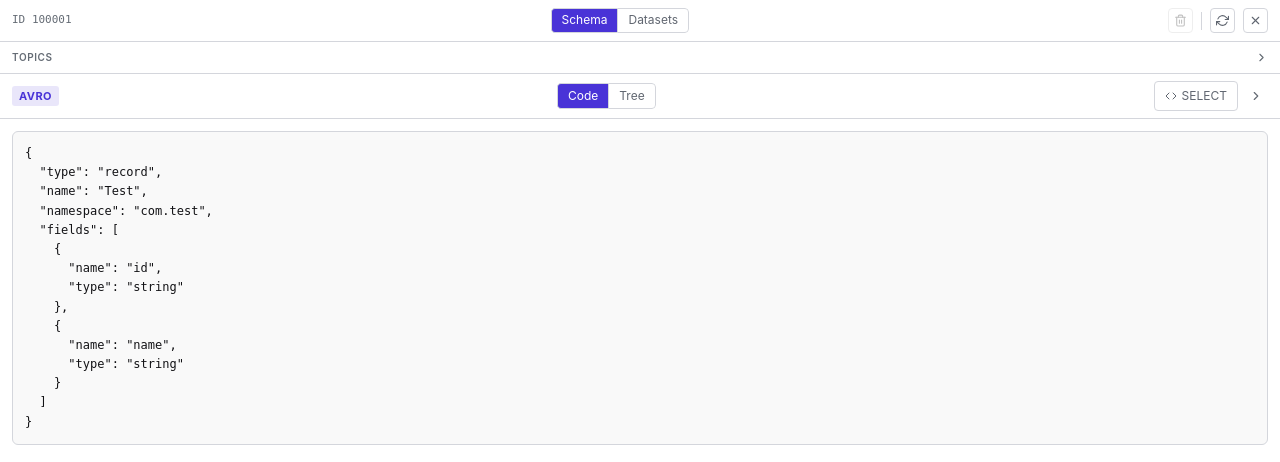
[@schema-detail-coverage] datasets tab › clicking "Datasets" button switches to datasets view
What coordinates should you click on to do the following:
click the button "Datasets"
I would click on:
 (653, 20)
Its box is 618,8 -> 689,33.
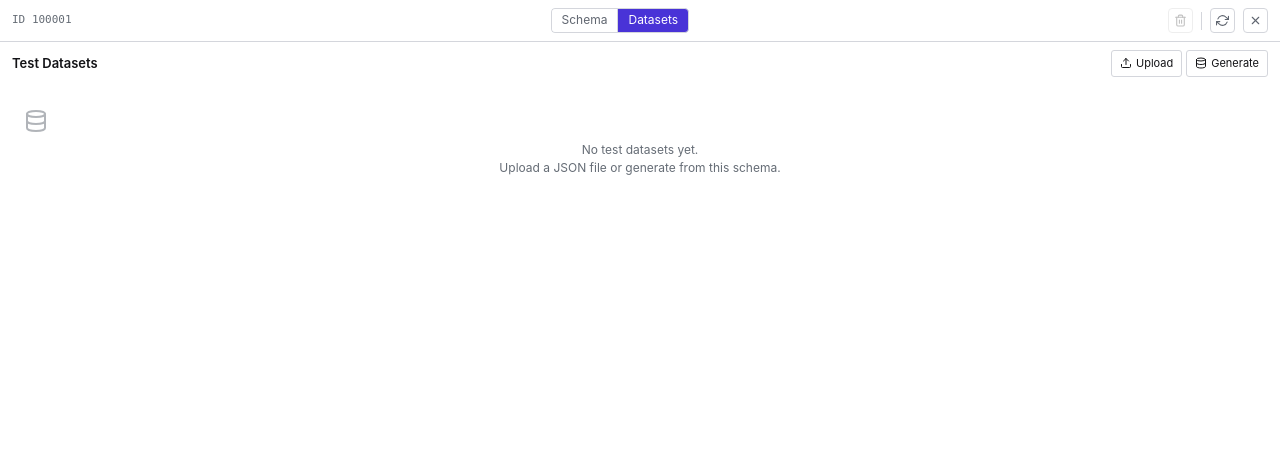
Expected: the text "Test Datasets" is shown, 12,54 -> 98,73
